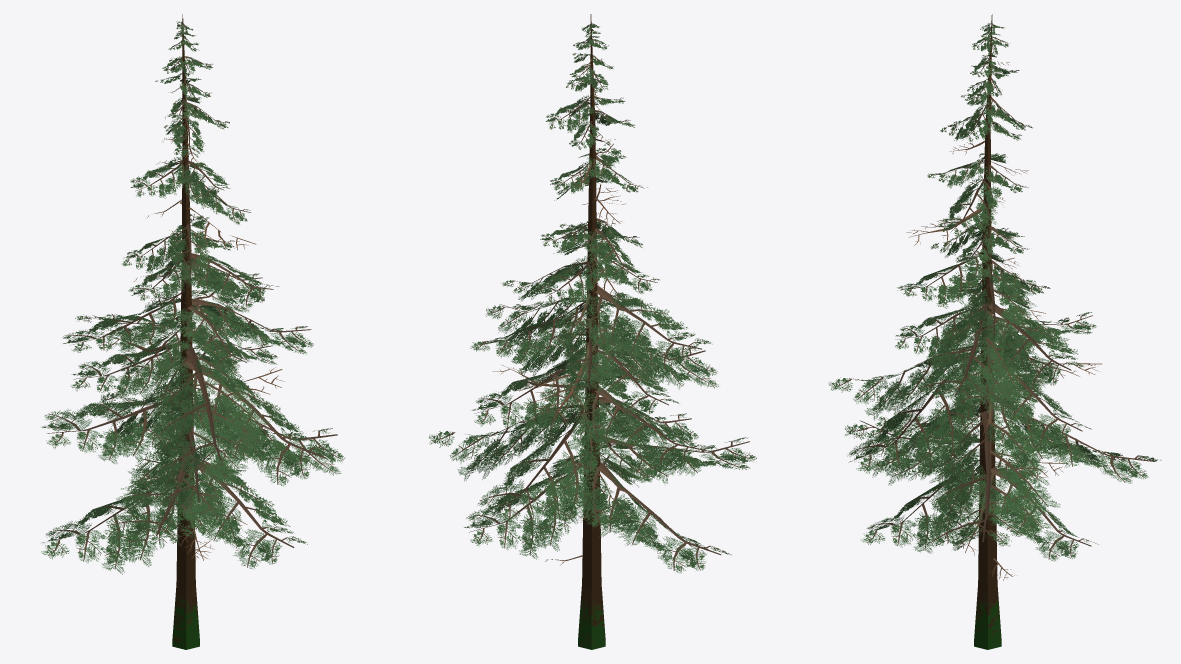
File: PineTree.fbx
3 views of the same model, side by side, from view 1: azimuth 30°, elevation 25°; view 2: azimuth 150°, elevation 25°; view 3: azimuth 270°, elevation 25° (orthographic).
Visible parts, largest first — view 1: Branches, Pine; view 2: Branches, Pine; view 3: Branches, Pine.
Part boxes in pixels (x1,y1,x2,y2): Branches: (41, 21, 345, 574); Pine: (172, 14, 199, 649); Branches: (429, 23, 756, 573); Pine: (578, 14, 605, 649); Branches: (828, 23, 1160, 580); Pine: (974, 14, 1001, 649).
Size of the model in its own units: 601 by 1181 by 602.
1 material, 1 textured.
